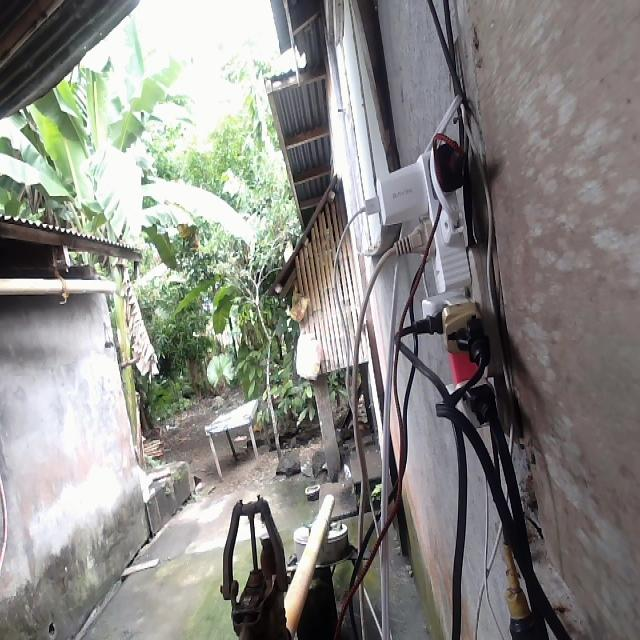-: (361, 131, 503, 432)
